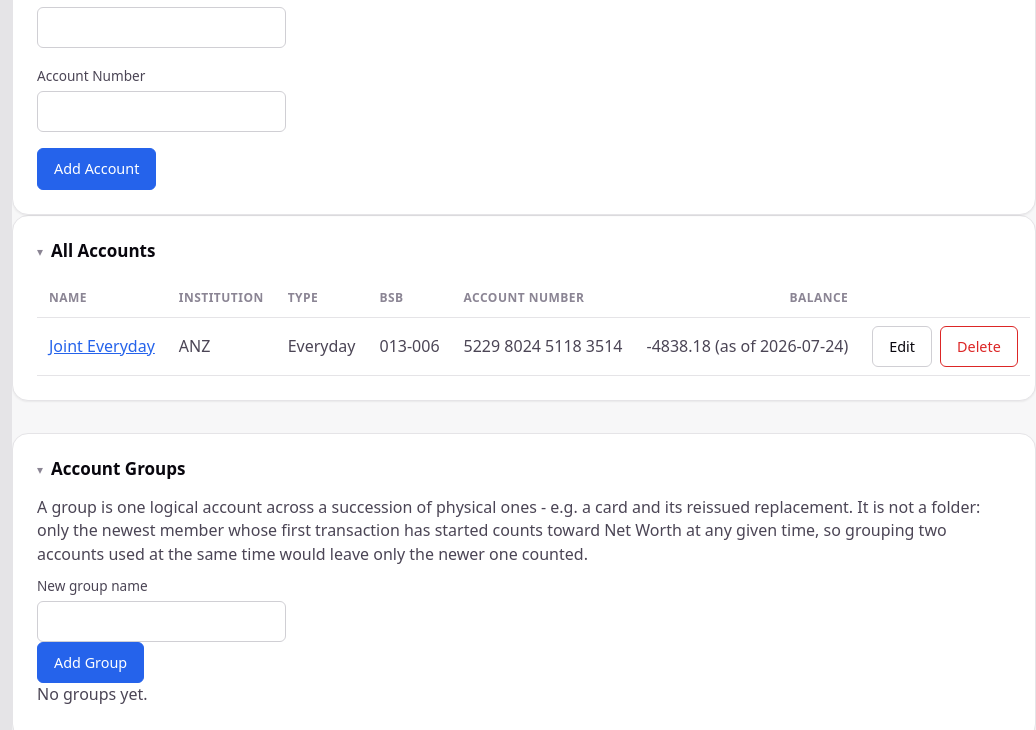
Scenario: AccountsPage › shows an error message when delete fails
The width and height of the screenshot is (1036, 730).
(page scrolled)
Expected: the link "Joint Everyday" is shown, [49,335,155,357]
Click the button "Delete". click: (979, 346)
box: [940,326,1018,367]
(page scrolled)
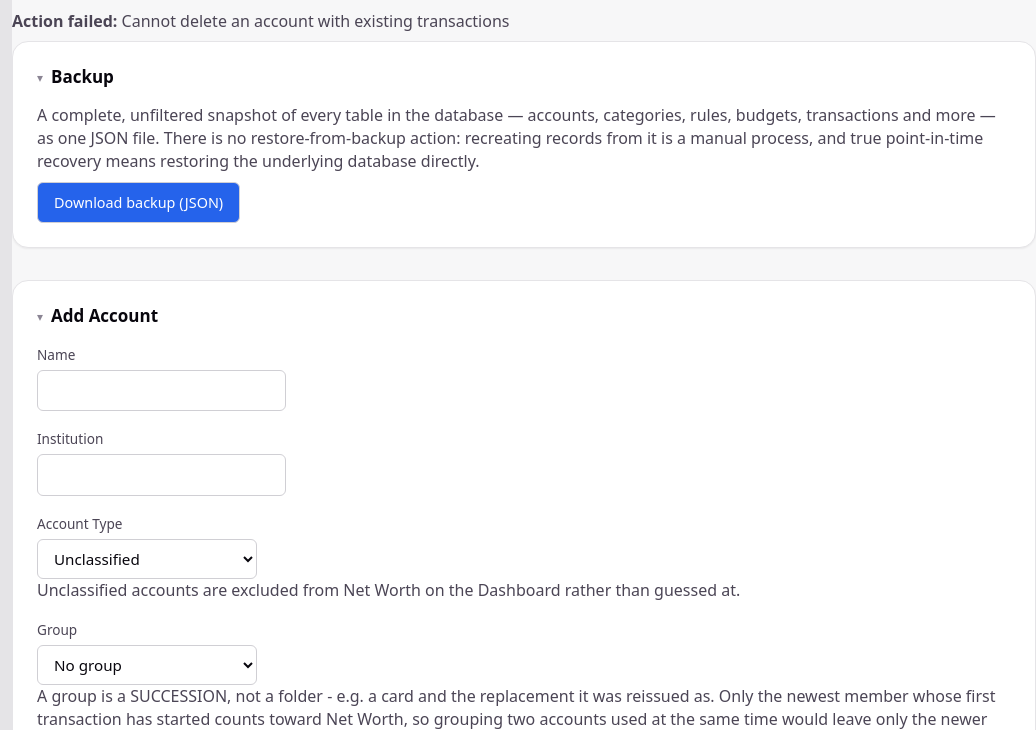
Now the text "Cannot delete an account with existing transactions" is shown, box [122,10,510,32]
